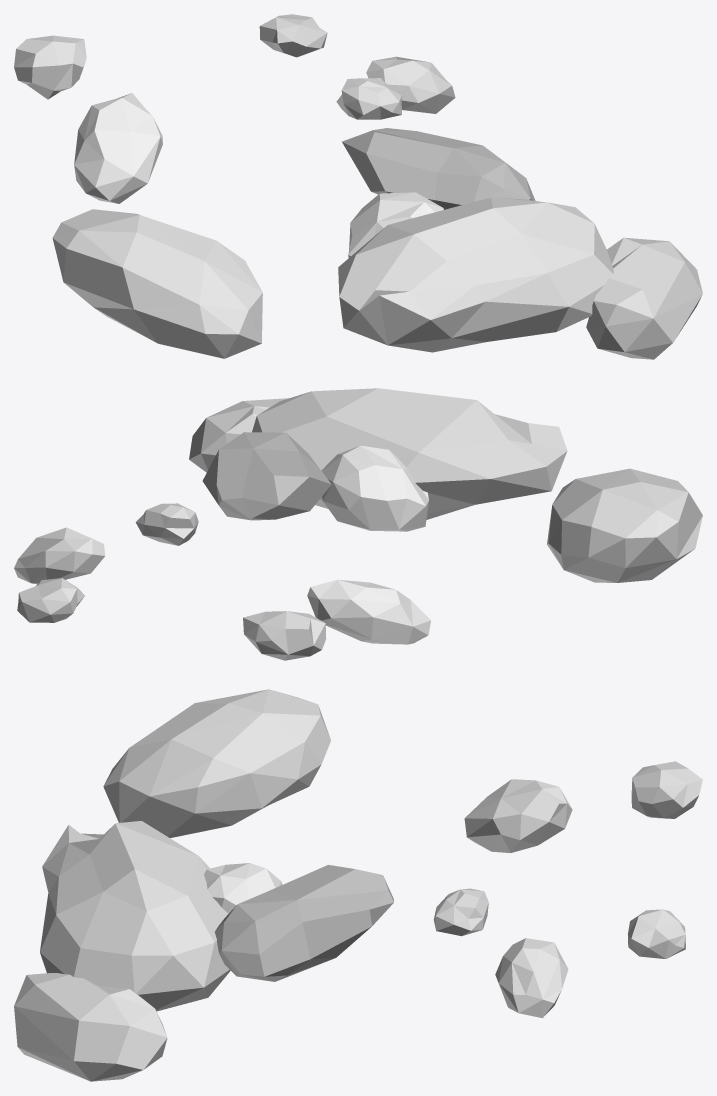
File: stone_016.fbx
3 renders of one model, top to bottom at view 1: azimuth 30°, elevation 25°; view 2: azimuth 150°, elevation 25°; view 3: azimuth 270°, elevation 25°, orthographic.
Visible parts, largest first — view 1: stone.016; view 2: stone.016; view 3: stone.016.
Part boxes in pixels (x1,y1,x2,y2): stone.016: [14, 14, 702, 359]; stone.016: [14, 388, 702, 660]; stone.016: [14, 689, 702, 1081].
Size of the model in its own units: 983 by 260 by 1062.
1 material, 1 textured.
